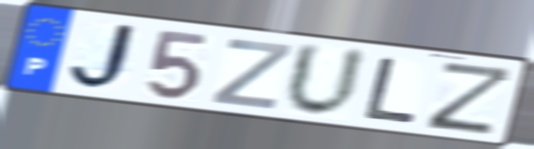5: (140, 28, 215, 102)
J: (66, 22, 147, 93)
L: (361, 55, 421, 126)
U: (281, 39, 370, 120)
Z: (424, 58, 519, 137), (207, 36, 296, 112)
